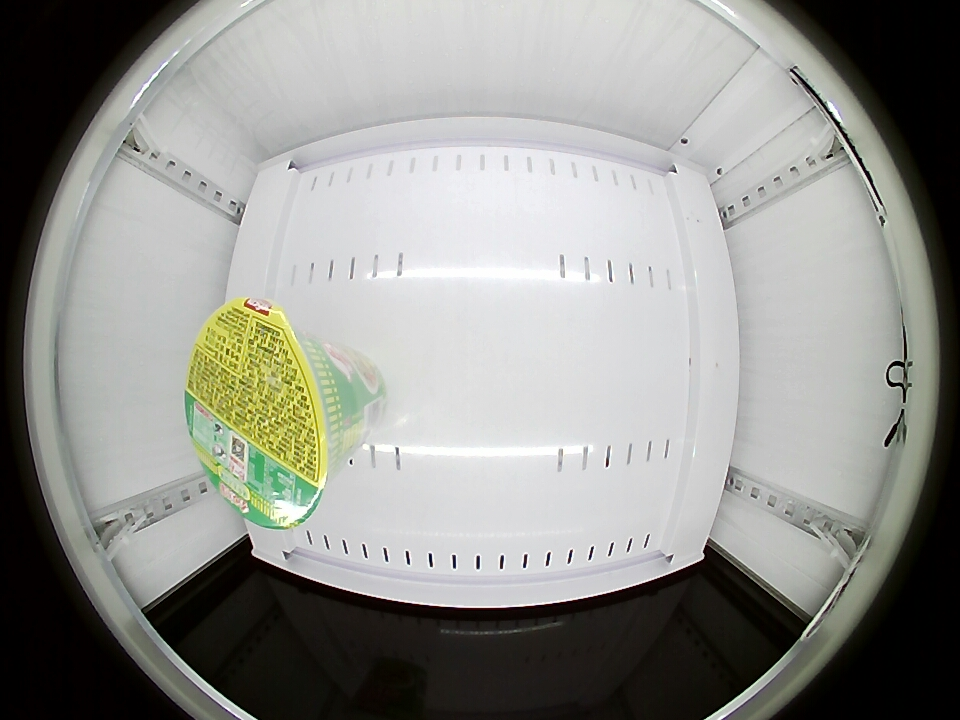heweidao2: (185, 297, 346, 529)
